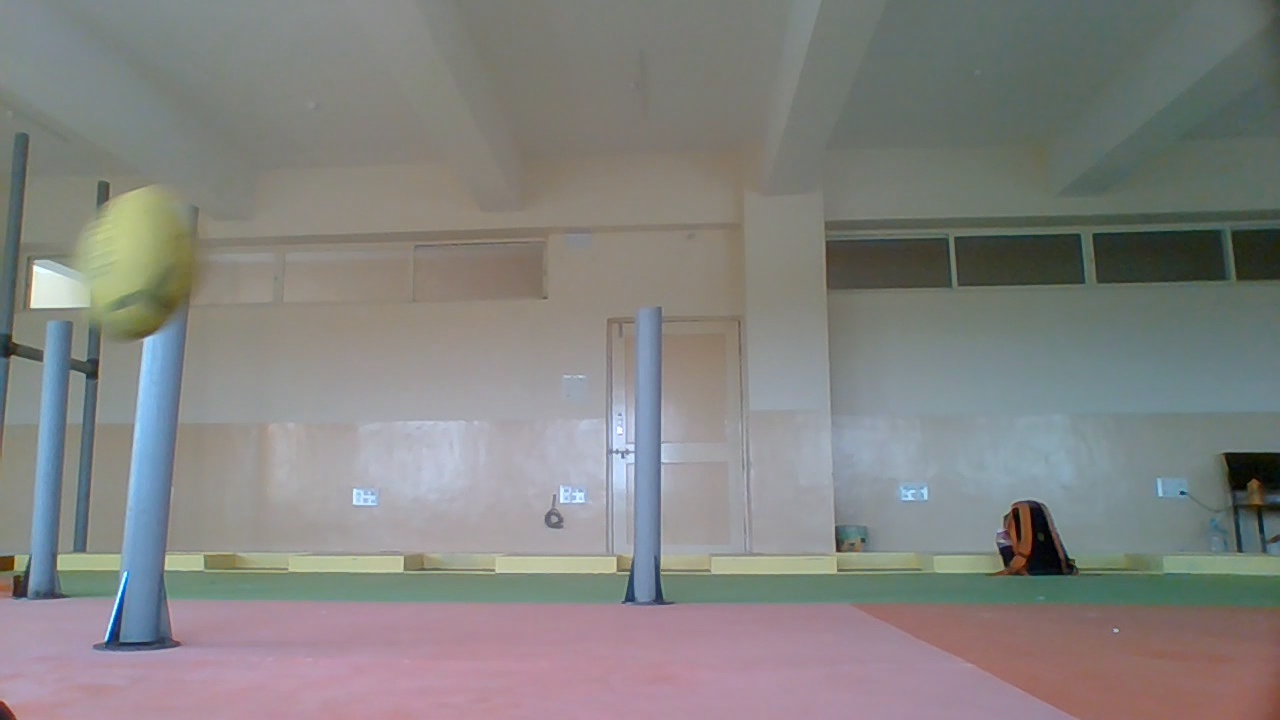ball: (159, 142, 220, 186)
